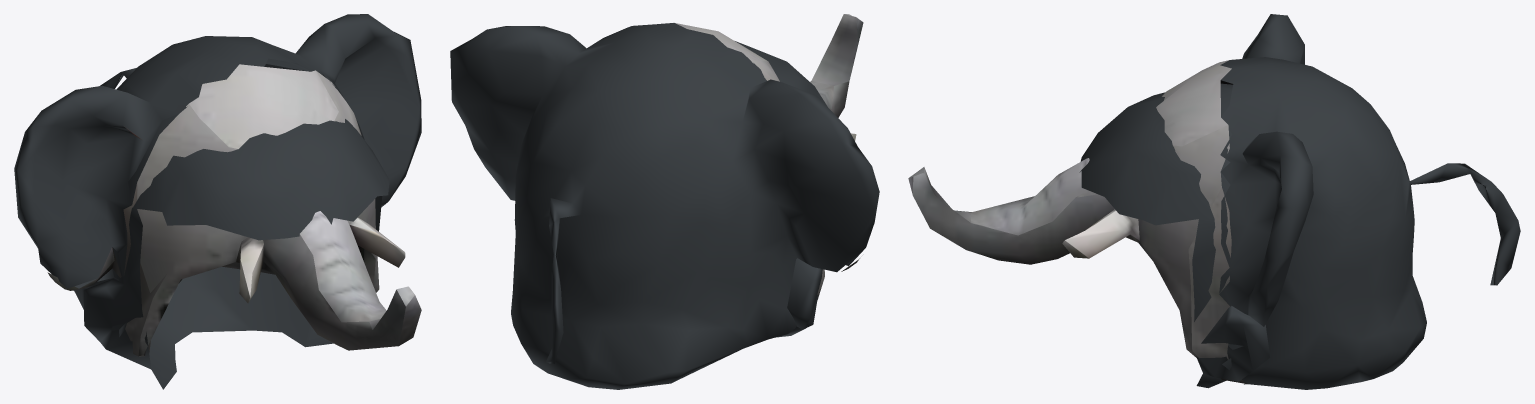
File: elephant.glb
3 views of the same model, side by side, from view 1: azimuth 30°, elevation 25°; view 2: azimuth 150°, elevation 25°; view 3: azimuth 270°, elevation 25° (orthographic). The views are drawn at different scales.
Parts seen in each view (by area): view 1: geometry_0, HoodAnatomicalLining; view 2: geometry_0, HoodAnatomicalLining; view 3: geometry_0, HoodAnatomicalLining.
Boxes of the visible parts, x1=… form: geometry_0: x1=14, y1=14, x2=421, y2=356; HoodAnatomicalLining: x1=83, y1=114, x2=389, y2=389; geometry_0: x1=450, y1=14, x2=879, y2=389; HoodAnatomicalLining: x1=735, y1=41, x2=827, y2=337; geometry_0: x1=908, y1=14, x2=1520, y2=389; HoodAnatomicalLining: x1=1079, y1=83, x2=1270, y2=388.
Size of the model in its own units: 0.6691 by 0.4636 by 0.9074.
Materials: 2 (1 with a texture image).
